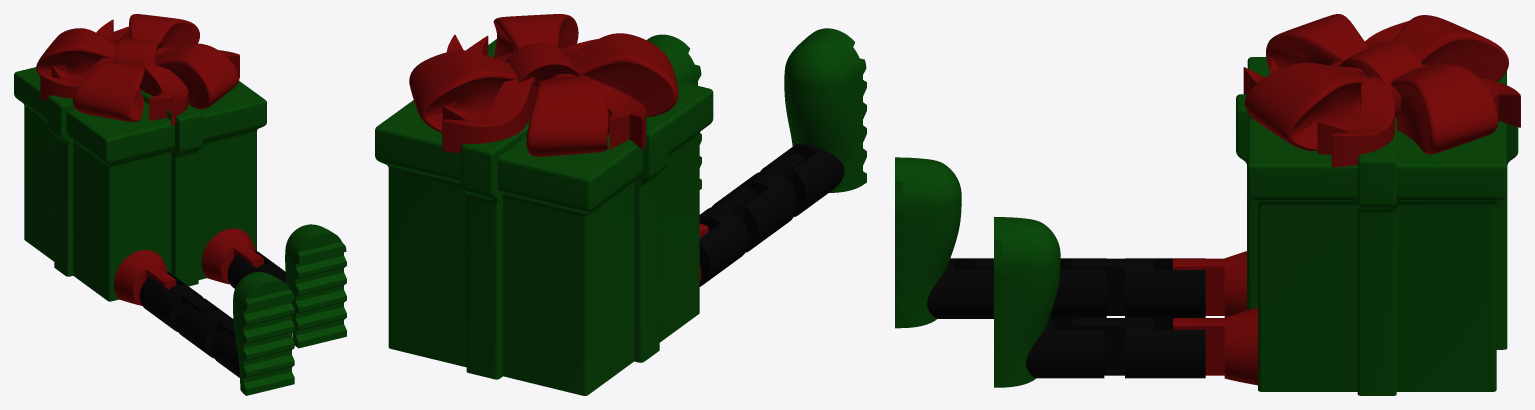
The model's file is ArtGiftBox FBX.FBX.
3 renders of one model, left to right at view 1: azimuth 30°, elevation 25°; view 2: azimuth 150°, elevation 25°; view 3: azimuth 270°, elevation 25°, orthographic. The views are drawn at different scales.
Visible parts, largest first — view 1: ArticulatedGiftBox001, Object001_Detached013, Object001_Detached012; view 2: ArticulatedGiftBox001, Object001_Detached013, Object001_Detached012; view 3: ArticulatedGiftBox001, Object001_Detached013, Object001_Detached012.
Part boxes in pixels (x1,y1,x2,y2): ArticulatedGiftBox001: (14,14,266,301); Object001_Detached013: (114,250,294,395); Object001_Detached012: (201,224,346,348); ArticulatedGiftBox001: (375,14,713,395); Object001_Detached013: (699,28,866,286); Object001_Detached012: (646,34,701,189); ArticulatedGiftBox001: (1236,14,1520,395); Object001_Detached013: (895,157,1246,328); Object001_Detached012: (994,217,1257,387).
Size of the model in its own units: 140 by 161 by 315.
